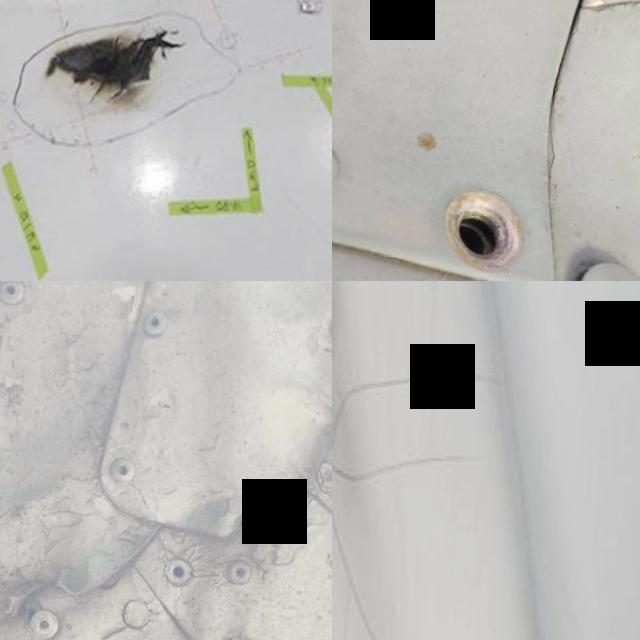Crack: (332, 357, 500, 480), (45, 23, 187, 99), (0, 558, 80, 623)
Missing_Fastener: (400, 148, 557, 281)
